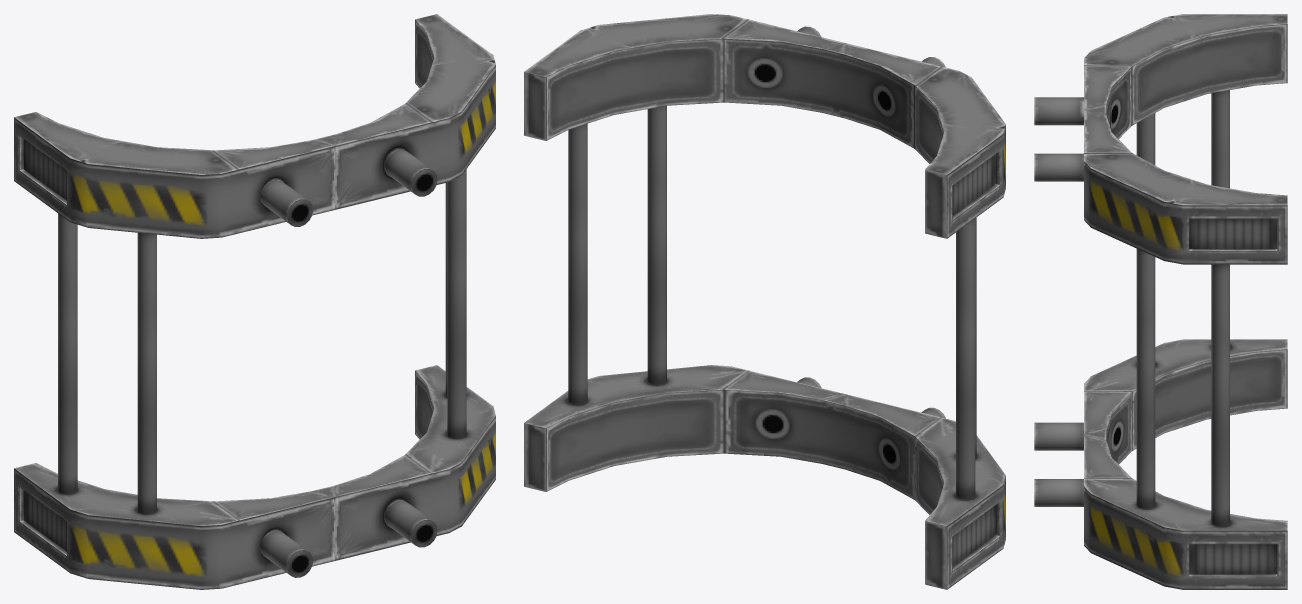
The model's file is TitanDecoupler.dae.
3 views of the same model, side by side, from view 1: azimuth 30°, elevation 25°; view 2: azimuth 150°, elevation 25°; view 3: azimuth 270°, elevation 25° (orthographic). The views are drawn at different scales.
Parts seen in each view (by area): view 1: detach, anchor; view 2: detach; view 3: detach, anchor.
Boxes of the visible parts, box(x1,y1,x2,y2) form: detach: box(14, 14, 495, 589); anchor: box(260, 149, 437, 577); detach: box(524, 14, 1005, 589); detach: box(1084, 14, 1287, 589); anchor: box(1034, 97, 1083, 506).
Bounding box in the file's own units: 2.02 × 1.89 × 1.13.
